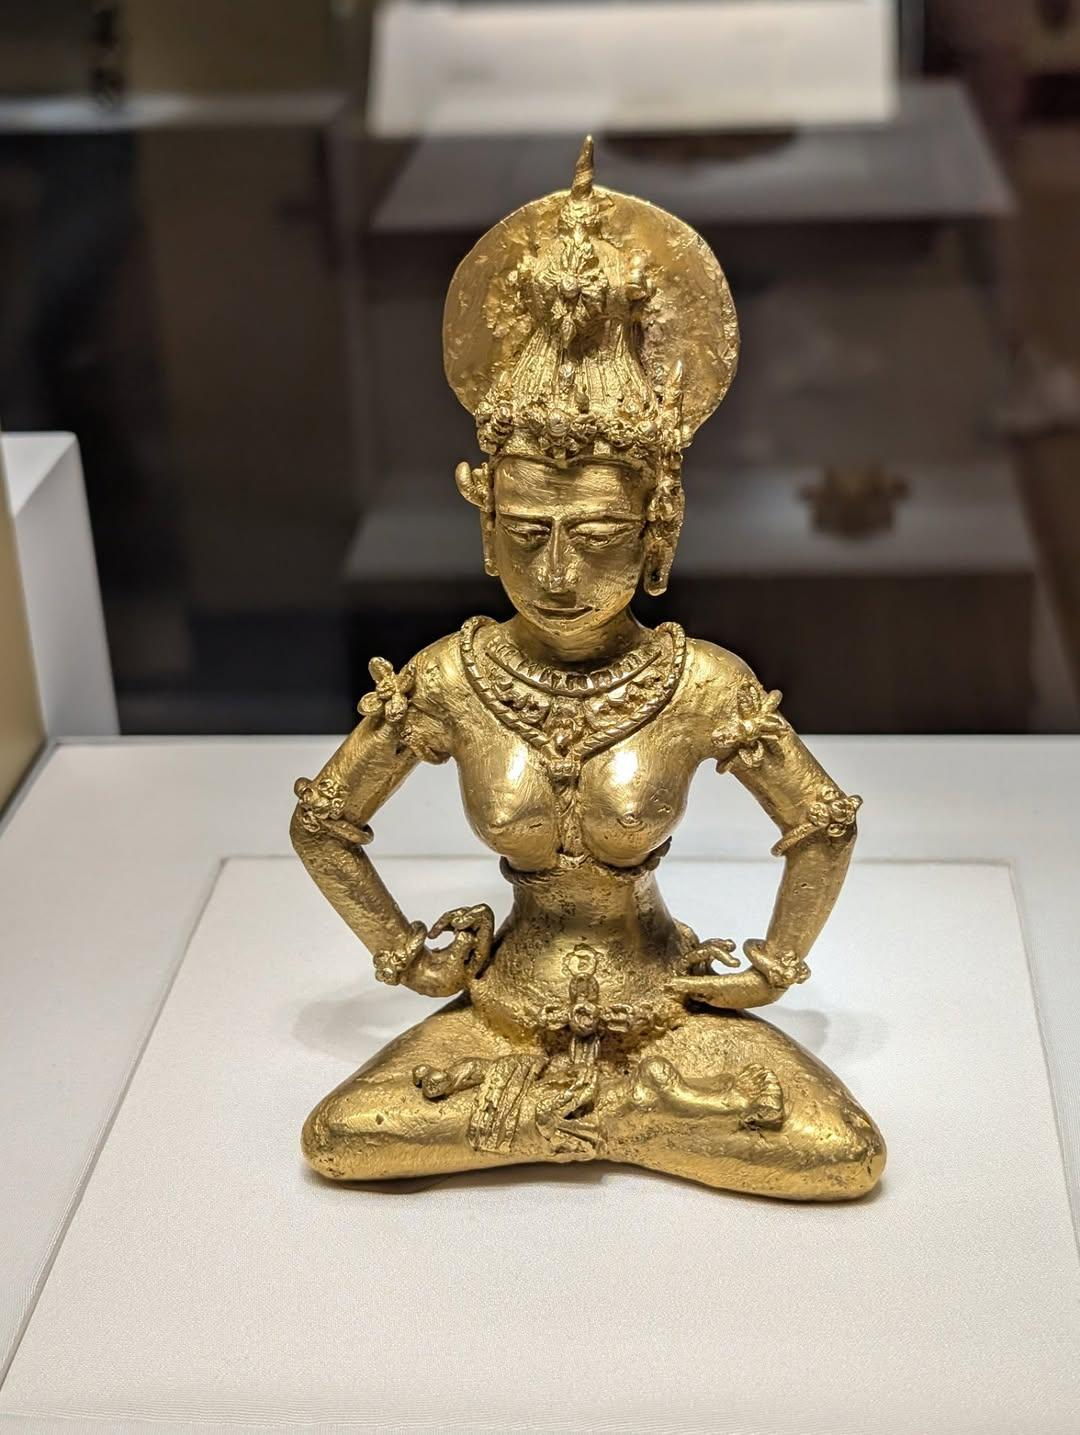golden_tara_of_agusan: (294, 130, 898, 1214)
